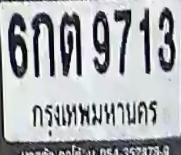1: (138, 8, 153, 76)
3: (156, 6, 174, 72)
6: (7, 12, 27, 77)
7: (113, 8, 132, 77)
9: (92, 10, 109, 74)
A01: (31, 13, 54, 78)
A21: (58, 11, 83, 77)
BKK: (27, 97, 165, 135)
